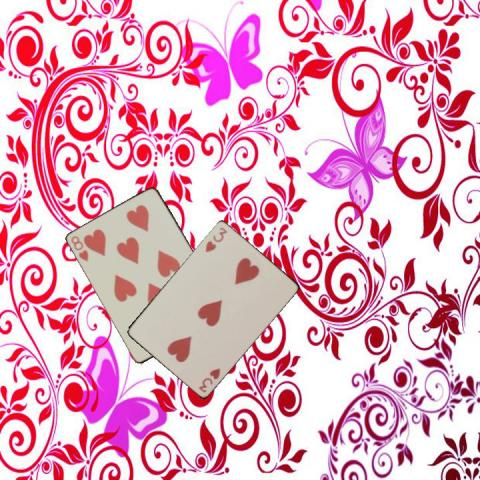3h: (202, 224, 229, 253), (195, 365, 222, 393)
8h: (68, 233, 90, 263)
